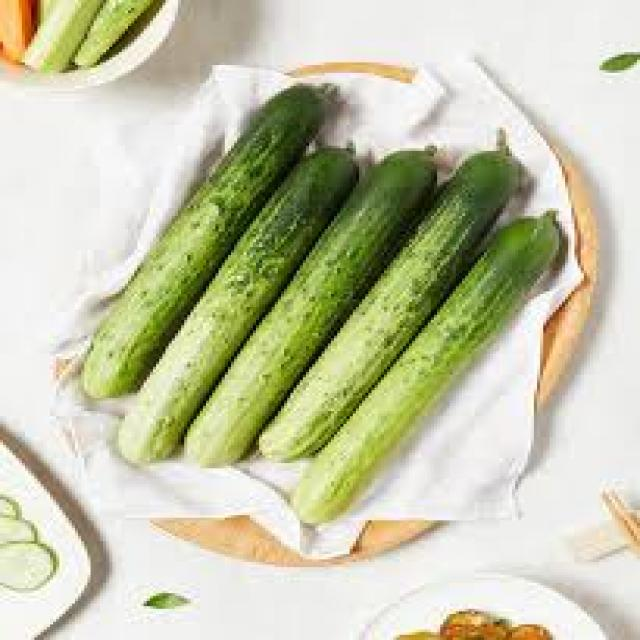Cucumber: (293, 211, 562, 523), (262, 148, 524, 462), (186, 151, 436, 467), (84, 86, 326, 399), (119, 148, 359, 463)
